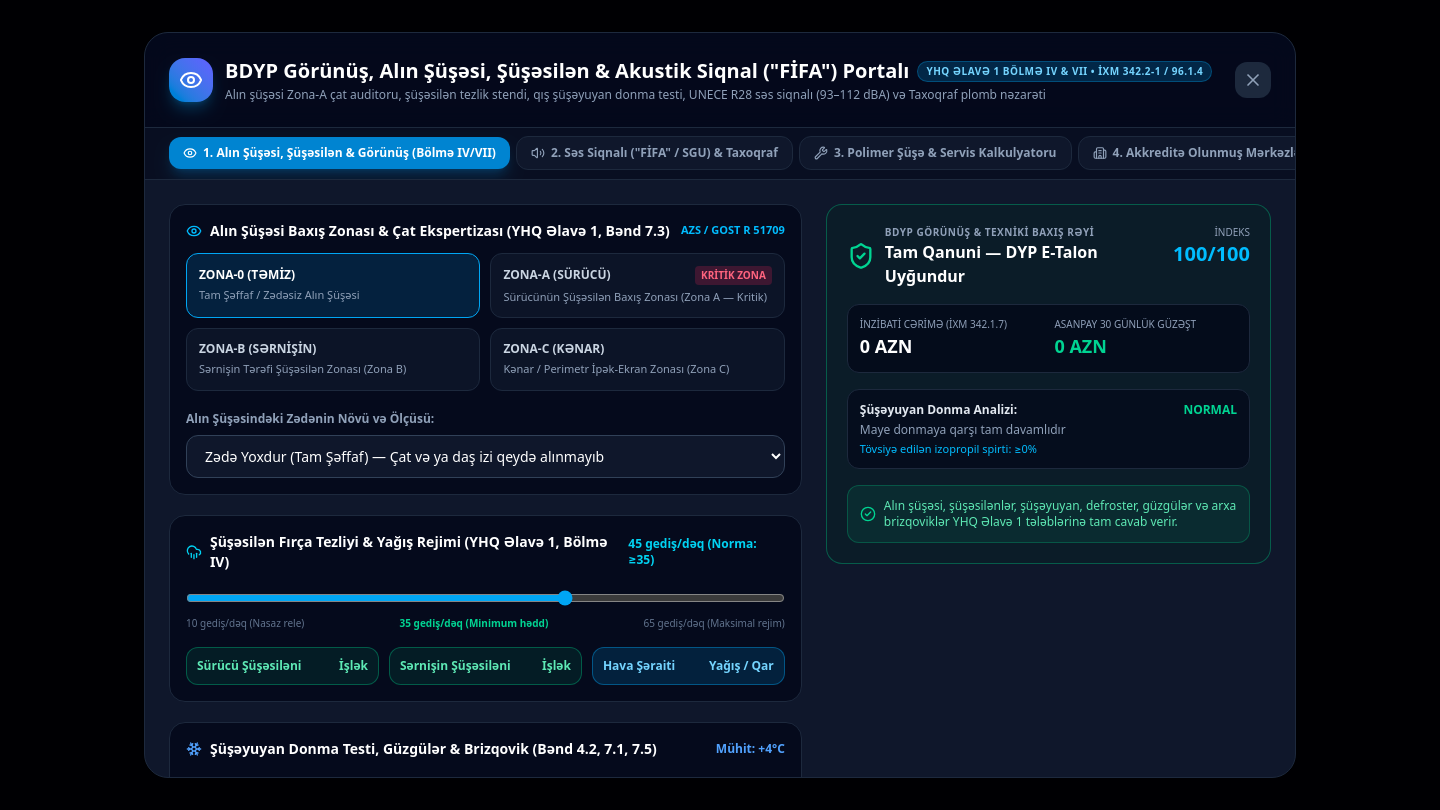
Test: VisibilityHornComplianceModal Component › renders Tab 1 (Windshield, Wipers & Visibility) and detects Zone-A crack & IXM 96.1.4 wiper failure
The image size is (1440, 810).
Expected: the text with test id "windshield-fine-amount" reads "0 AZN", [860,334,912,358]
# Select Driver Sweep Zone A
Click the button with test id "zone-btn-driver_sweep_a" at [557, 275], box [490,252,785,318]
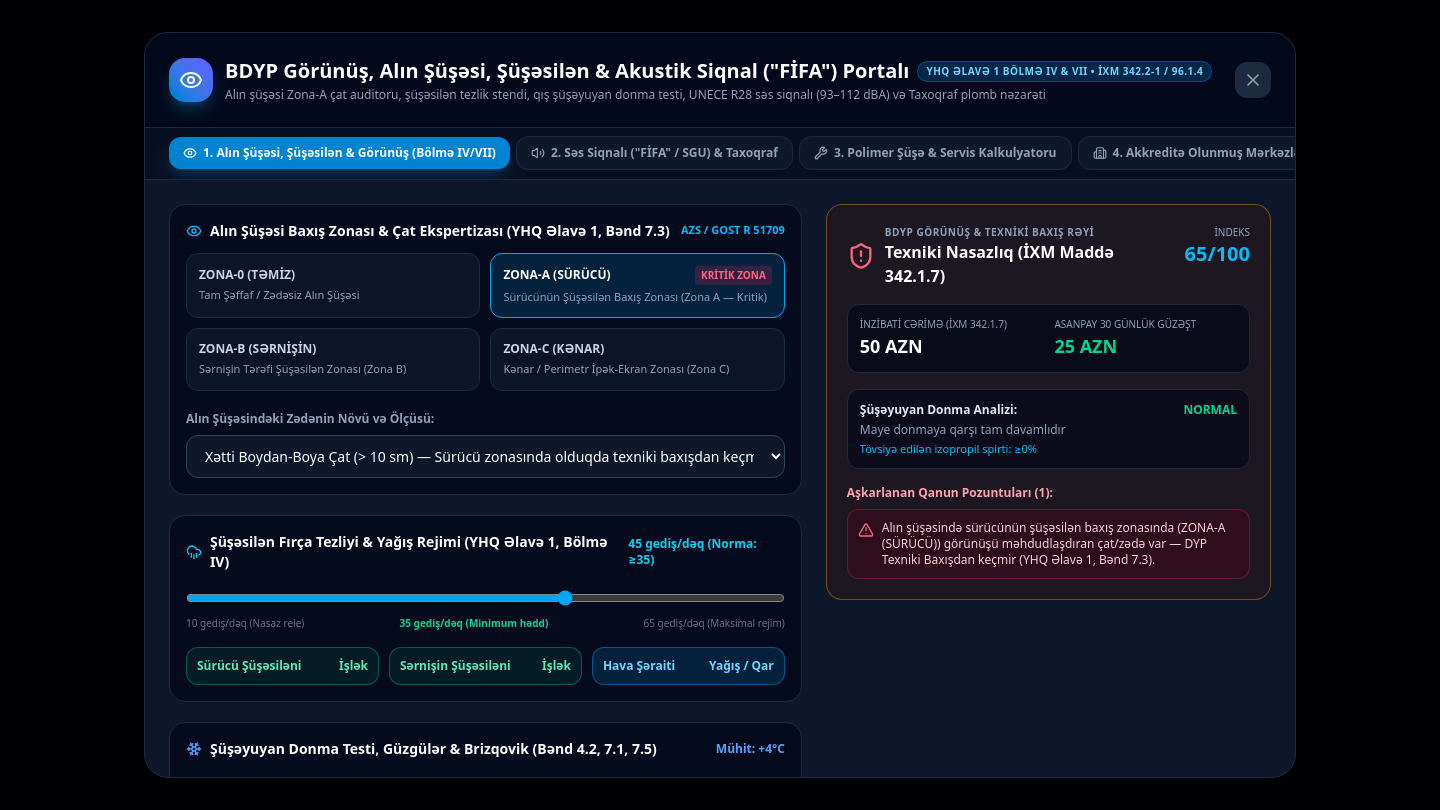
Expected: the text with test id "windshield-fine-amount" reads "50 AZN", [860,334,923,358]
Click the button with test id "toggle-driver-wiper" at [282, 666], box [186,646,379,684]
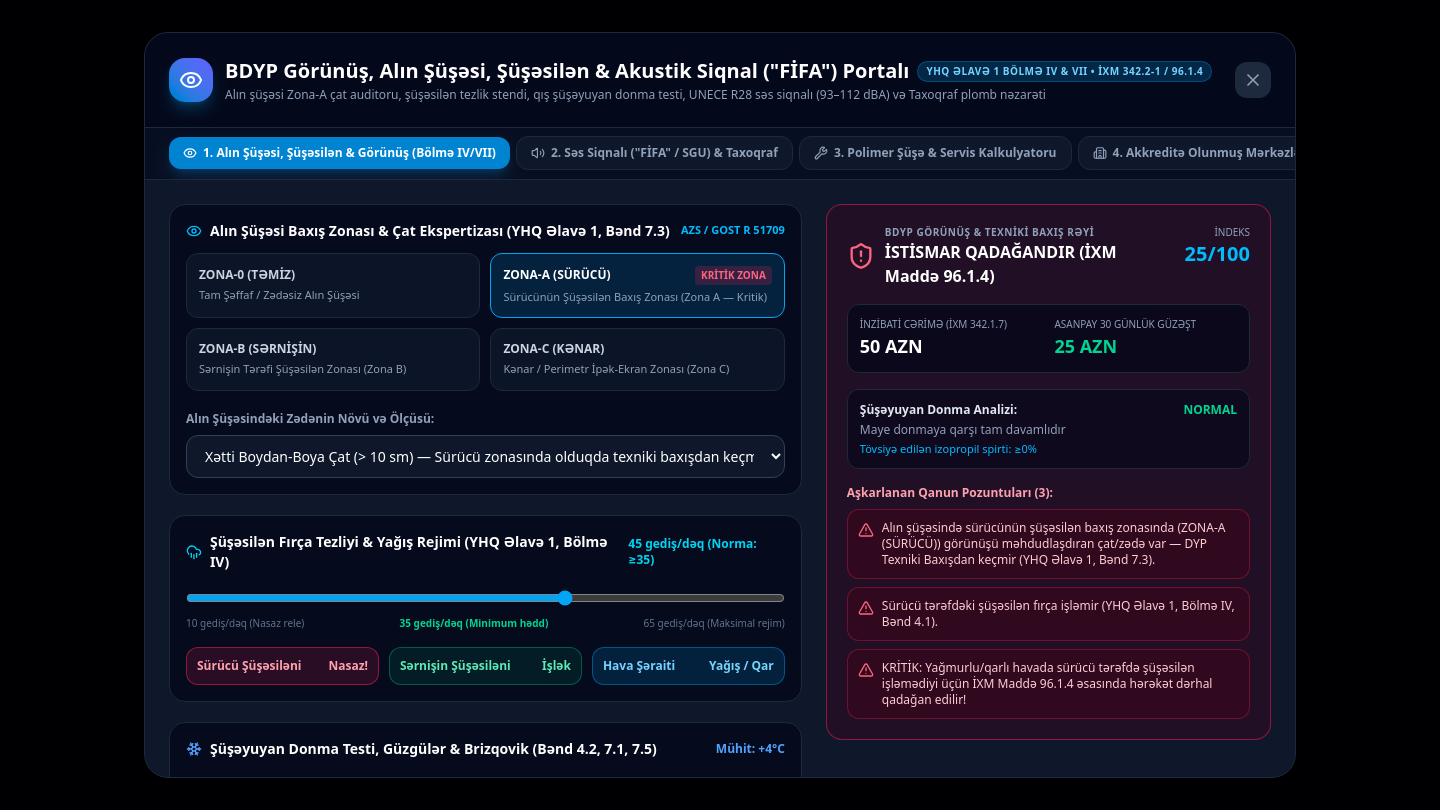
Expected: the element with test id "windshield-verdict-card" shows "İSTİSMAR QADAĞANDIR (İXM Maddə 96.1.4)", [885,240,1116,286]
